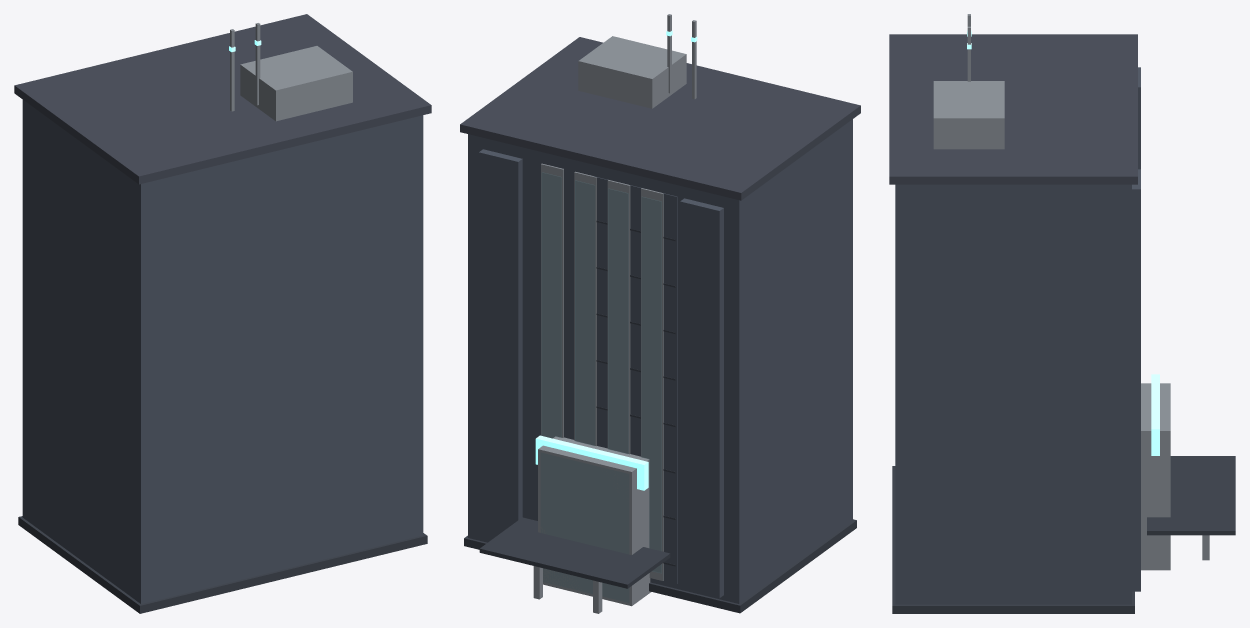
File: office.glb
The picture shows the model from 3 angles, left to right: view 1: azimuth 30°, elevation 25°; view 2: azimuth 150°, elevation 25°; view 3: azimuth 270°, elevation 25°; orthographic projection. The views are drawn at different scales.
Visible parts, largest first — view 1: Body_Wall, Roof_Slab, Curtain_0_Frame, Groove_0_0; view 2: Body_Wall, Curtain_0_Frame, Roof_Slab, Curtain_0_Glass, Groove_0_0, Logo_Sign; view 3: Body_Wall, Roof_Slab, Curtain_0_Frame, Groove_0_0, Logo_Sign.
Part boxes in pixels (box(x1,y1,x2,y2)): Body_Wall: box(22, 100, 423, 603); Roof_Slab: box(14, 14, 431, 184); Curtain_0_Frame: box(230, 23, 352, 121); Groove_0_0: box(18, 516, 427, 613); Body_Wall: box(468, 119, 852, 603); Curtain_0_Frame: box(533, 14, 696, 613); Roof_Slab: box(460, 37, 860, 200); Curtain_0_Glass: box(541, 172, 661, 602); Groove_0_0: box(464, 220, 856, 613); Logo_Sign: box(535, 30, 697, 490); Body_Wall: box(895, 67, 1140, 604); Roof_Slab: box(889, 34, 1137, 184); Curtain_0_Frame: box(933, 14, 1209, 570); Groove_0_0: box(892, 456, 1235, 613); Logo_Sign: box(967, 30, 1159, 455).
Bounding box in the file's own units: 11.4 × 19.6 × 11.7.
